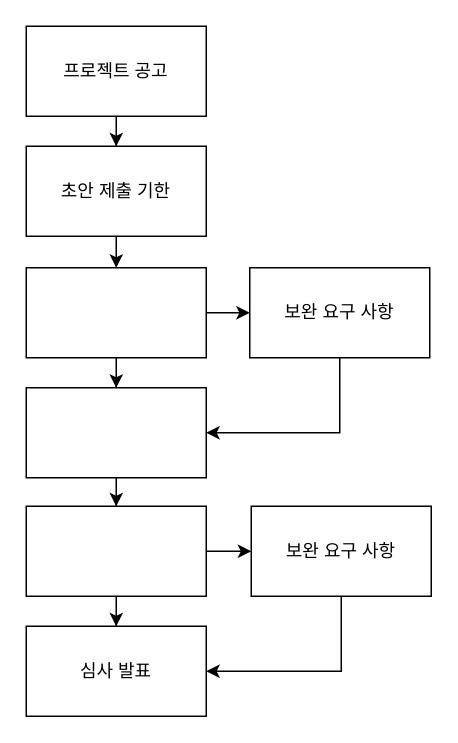
Some shapes in this 458 by 743 pixel diagram are drawn without their labels. Here are the shapes that lost their labels. From the top down, the centre of each, then its label:
At [115,312]: "중간 발표".
At [115,432]: "최종 발표(1차)".
At [115,550]: "최종 발표(2차)".
